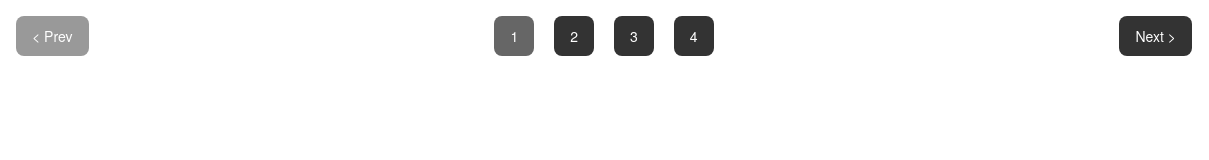
Test: Pagination Component › disables "Next" button on the last page
The image size is (1209, 160).
Click the button "4" at (694, 36), box [674, 16, 714, 56]
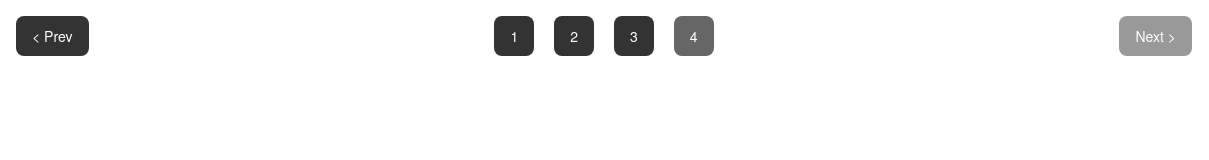
Expected: the button with aria-label "next page" is disabled, [1120, 16, 1192, 56]
